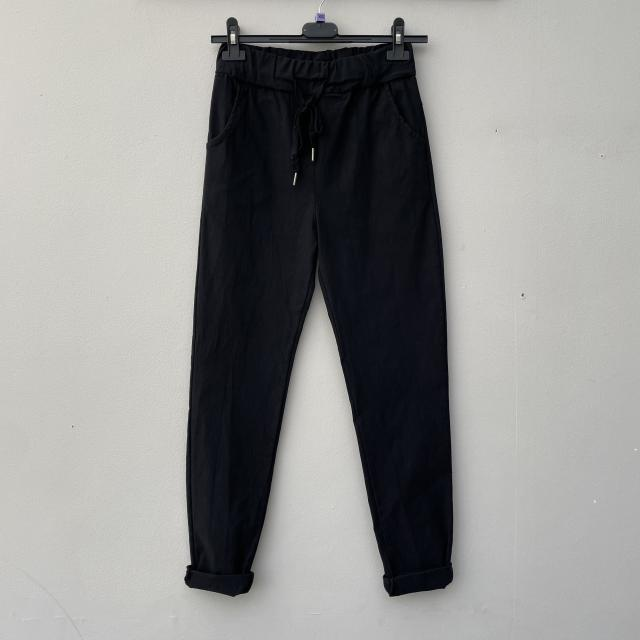long-pants: (188, 37, 460, 604)
